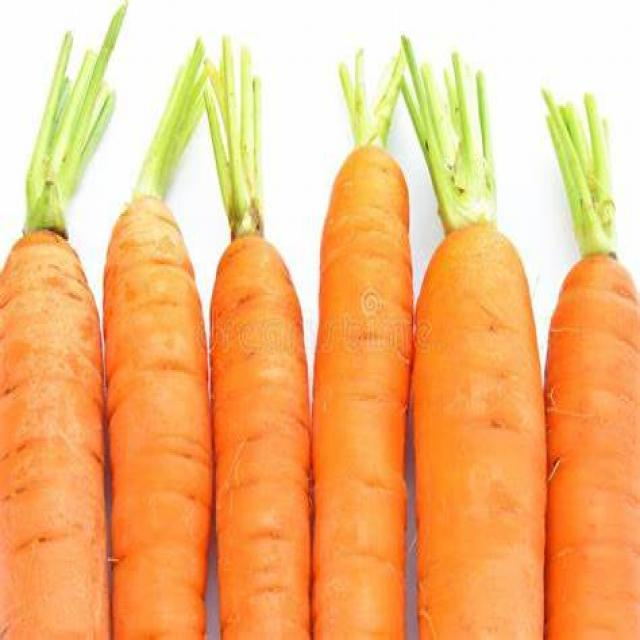Carrot: (414, 223, 549, 640), (312, 144, 418, 640), (105, 196, 217, 640), (211, 242, 317, 640), (2, 230, 102, 640), (547, 258, 640, 640)
